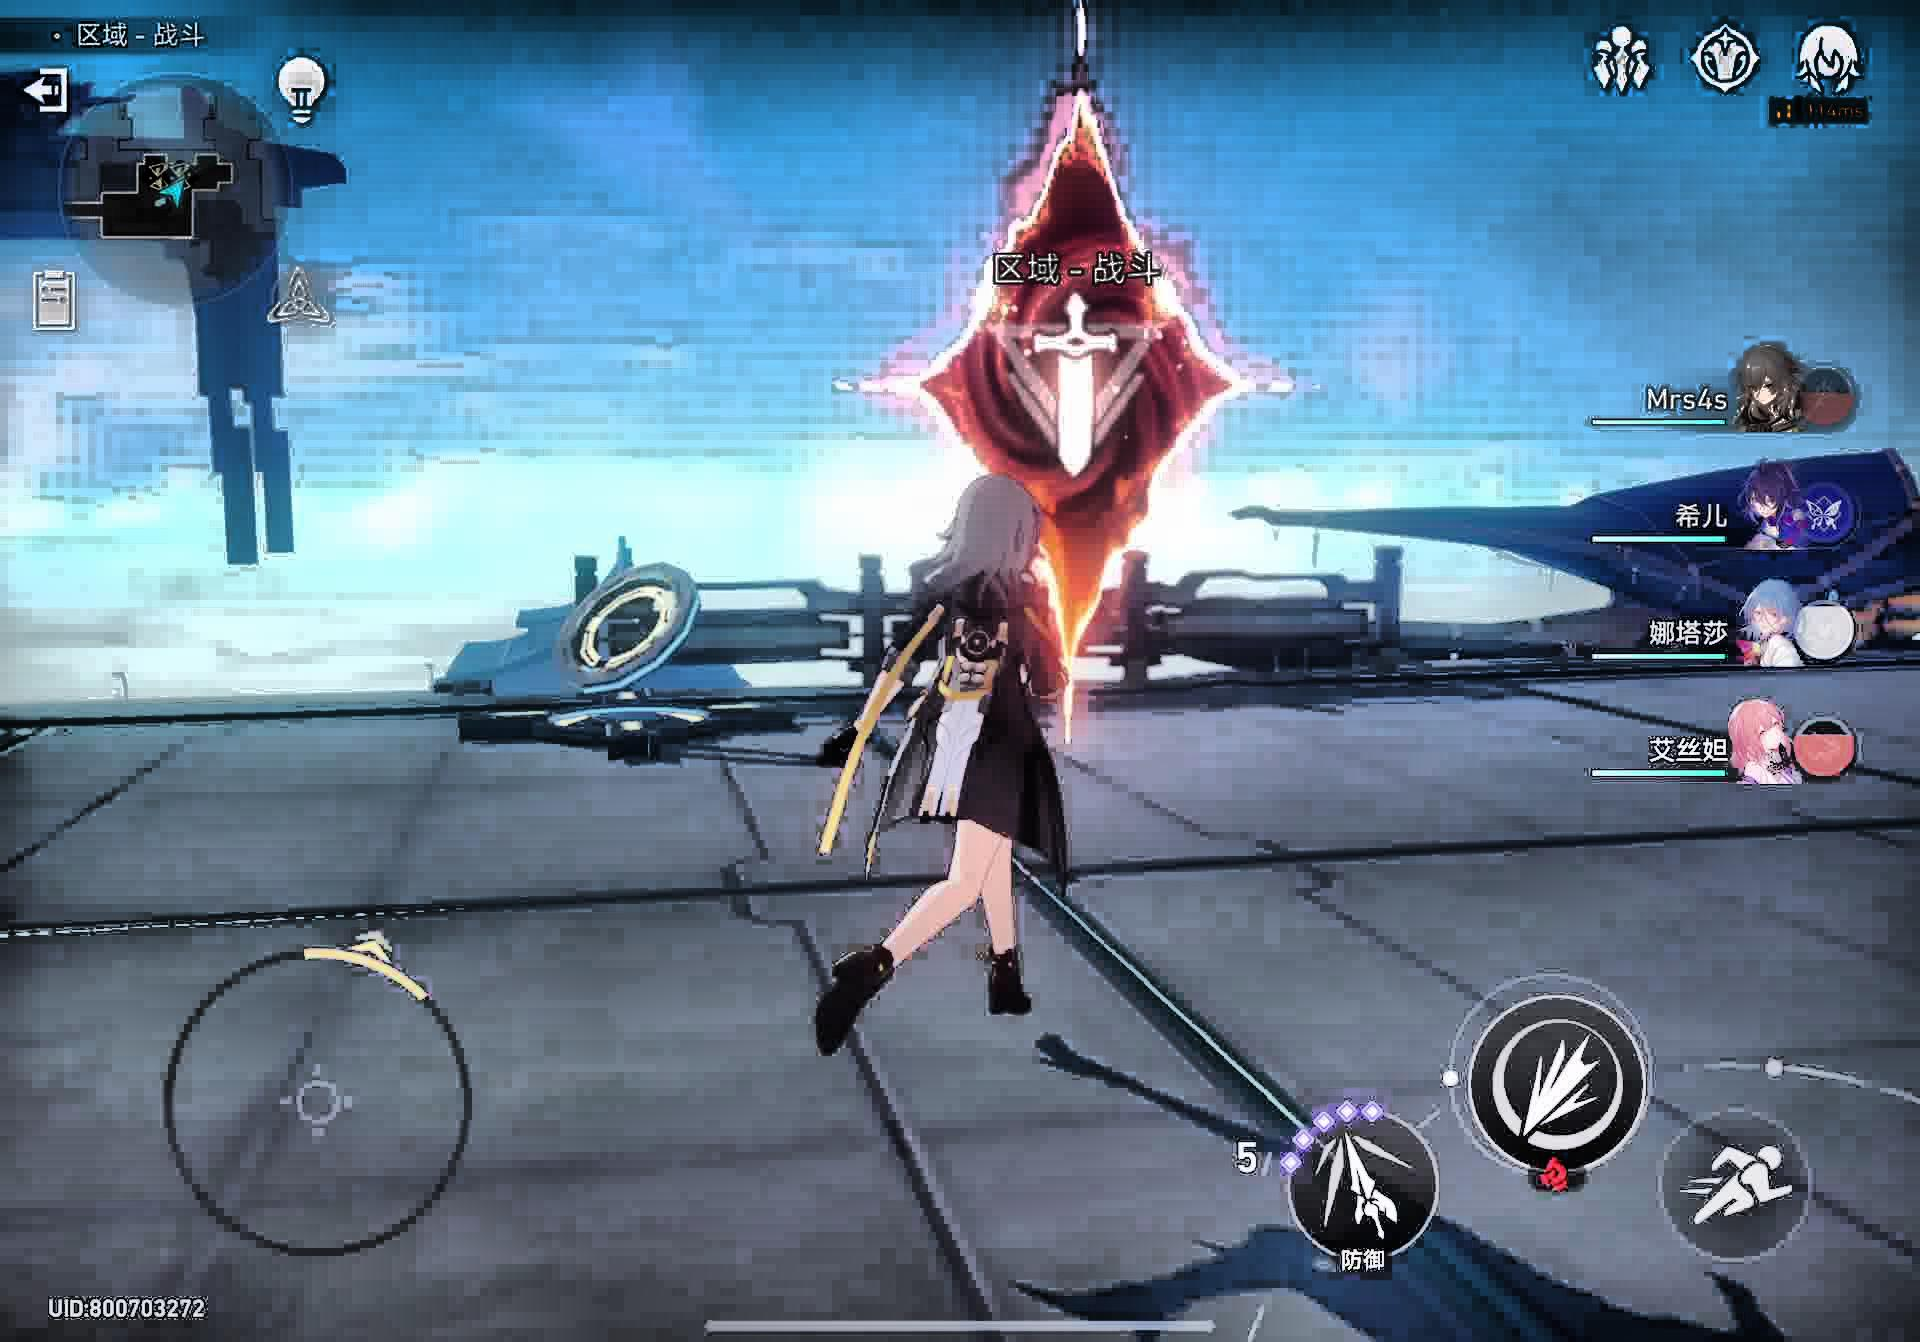BattleDoor: (851, 92, 1312, 734)
Self: (821, 474, 1059, 1078)
